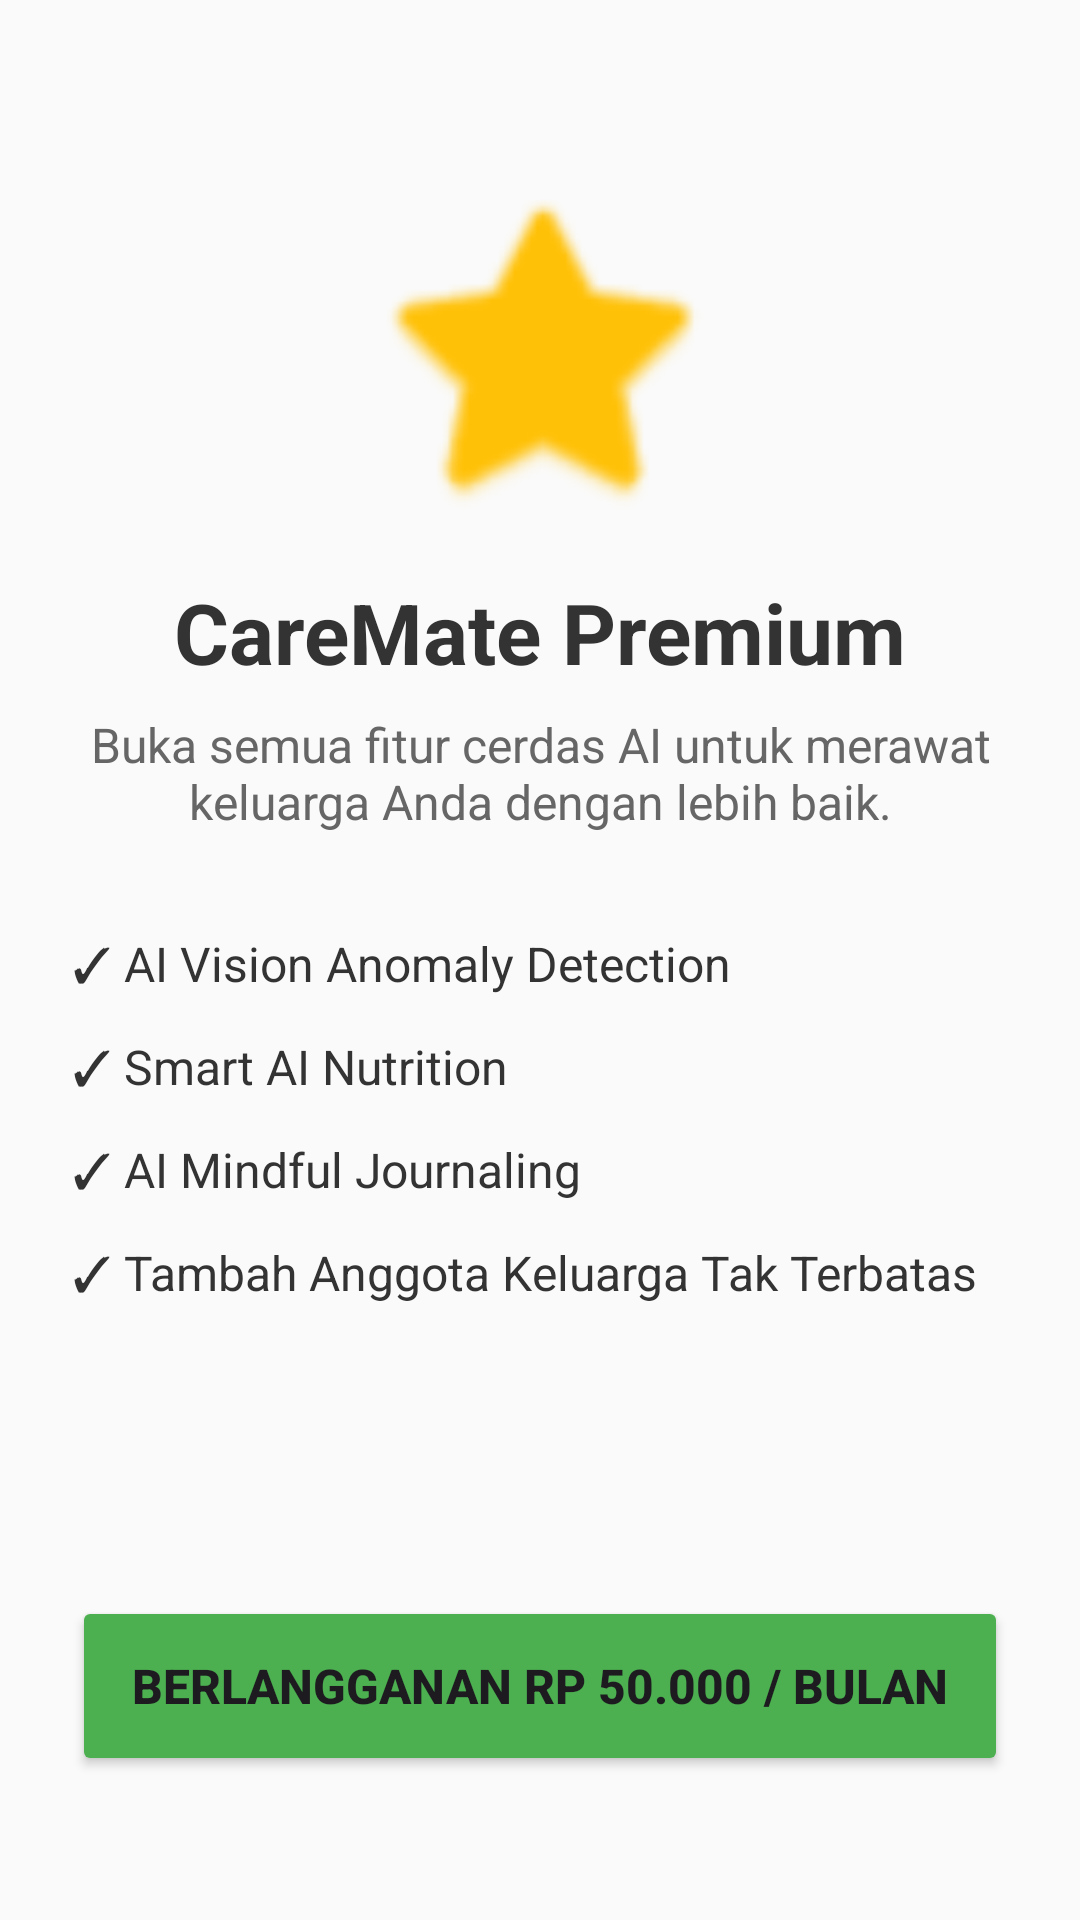

Screen size 1080×1920. Icon name, then its box in pixels as (x1, y1, x2, y2):
star on: (392, 204, 694, 497)
